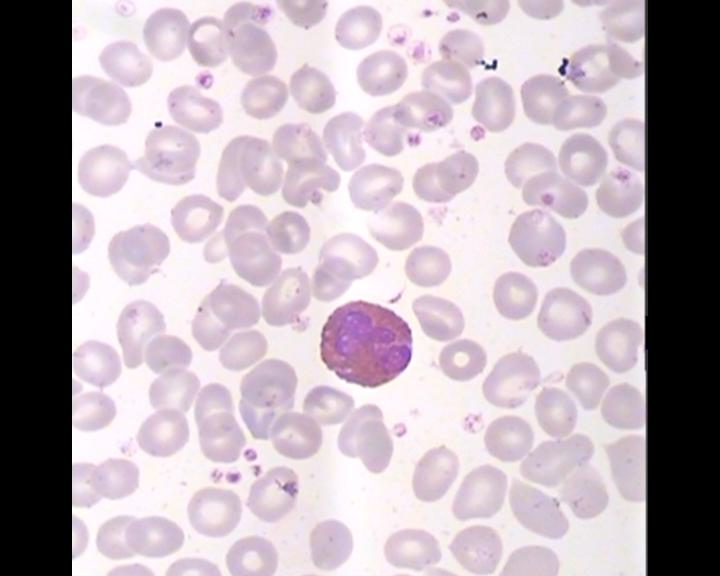eosi: (316, 298, 414, 392)
